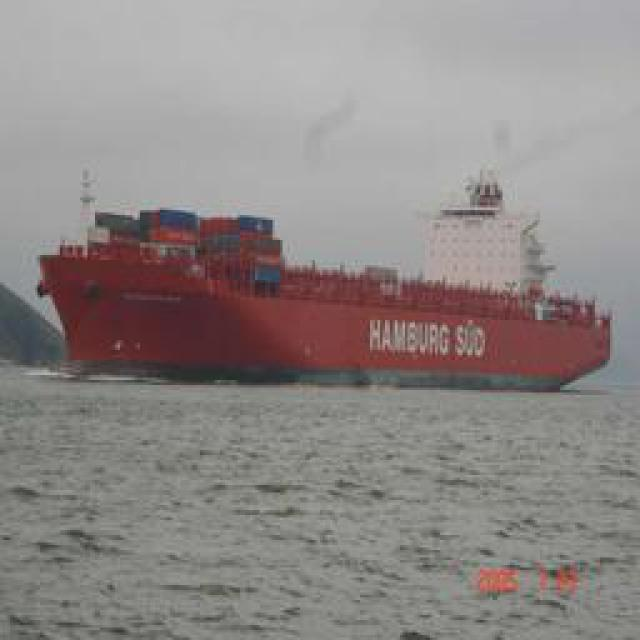Ship: (40, 155, 619, 397)
